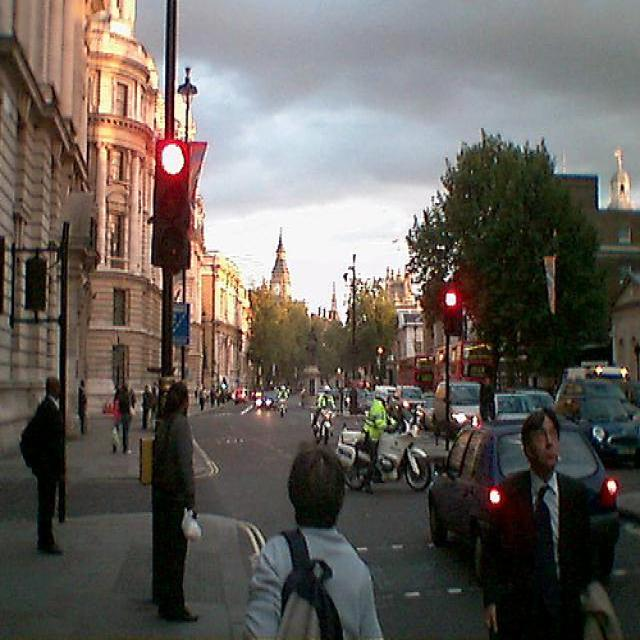motor: (336, 404, 434, 494), (310, 409, 337, 446), (276, 394, 287, 415)
